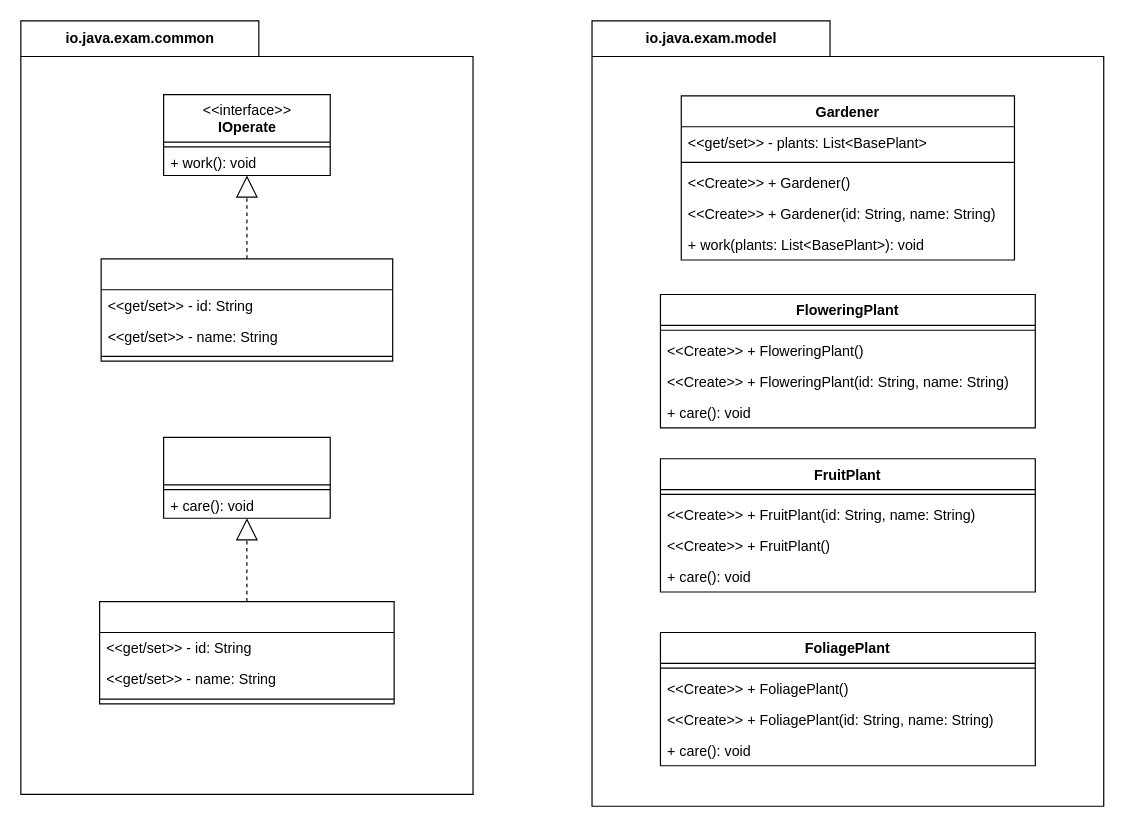
Some shapes in this 1125 by 827 pixel diagram are drawn without their labels. The shapes that lost their labels are listed below. From the top down, each one's box as (x1, y1, x2, y2) in pixels, then its label:
(100, 258, 393, 361): BaseStaff
(162, 436, 330, 518): <<interface>> IFoster
(98, 600, 394, 704): BasePlant
